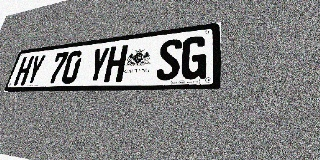0: (60, 50, 83, 84)
7: (46, 52, 69, 84)
G: (180, 35, 208, 80)
H: (103, 45, 128, 82), (13, 56, 34, 85)
S: (155, 38, 183, 81)
Y: (86, 47, 110, 83), (24, 54, 46, 85)
